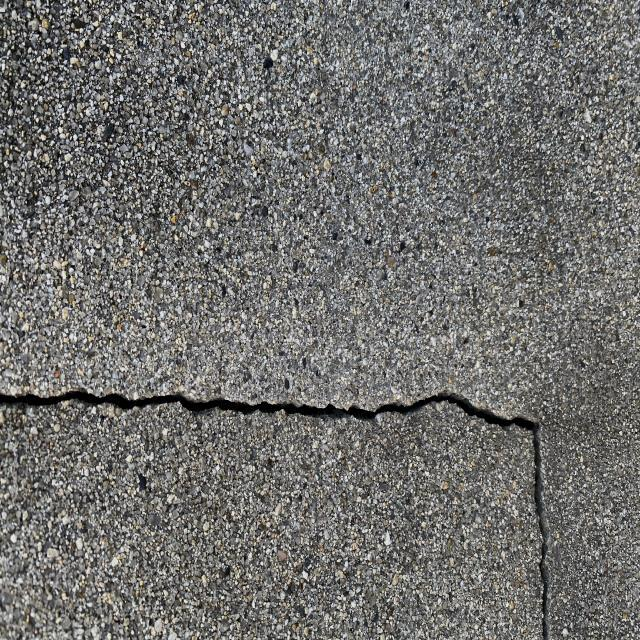SurfaceCrack: (1, 349, 559, 472)
